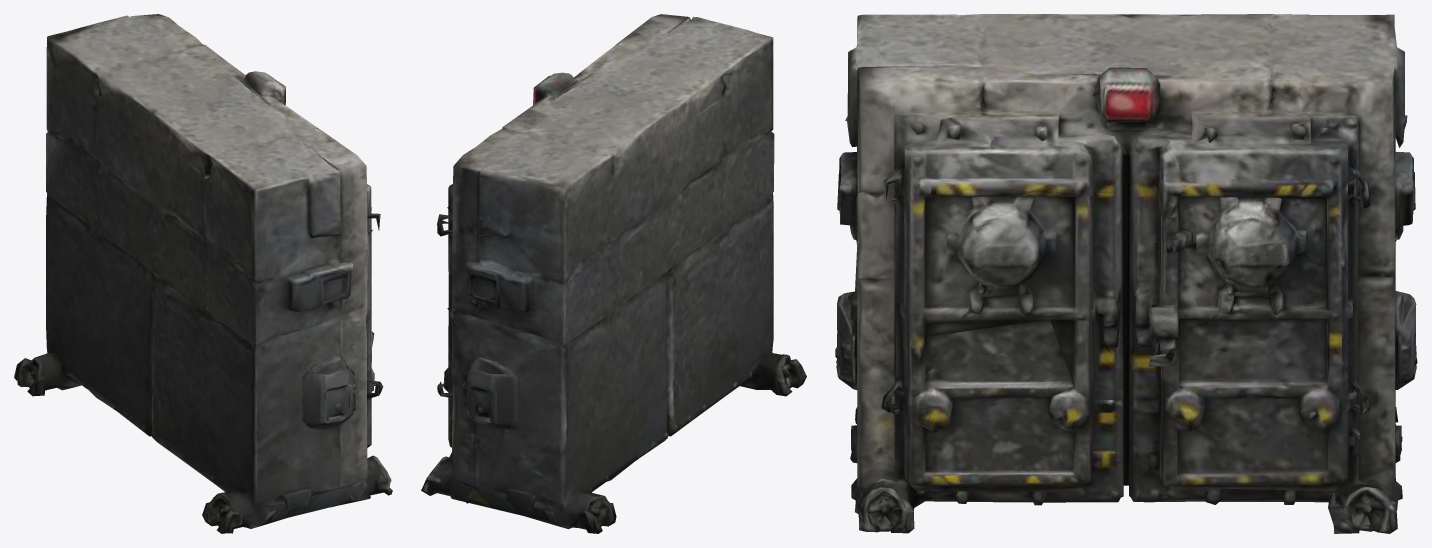
File: xd_blastdoor.glb
3 views of the same model, side by side, from view 1: azimuth 30°, elevation 25°; view 2: azimuth 150°, elevation 25°; view 3: azimuth 270°, elevation 25° (orthographic). The views are drawn at different scales.
Parts seen in each view (by area): view 1: tripo_node_0ac345b9-3ccb-4cc8-82f6-13326d8db237; view 2: tripo_node_0ac345b9-3ccb-4cc8-82f6-13326d8db237; view 3: tripo_node_0ac345b9-3ccb-4cc8-82f6-13326d8db237.
Part boxes in pixels (box(x1,y1,x2,y2)): tripo_node_0ac345b9-3ccb-4cc8-82f6-13326d8db237: box(14, 14, 392, 533); tripo_node_0ac345b9-3ccb-4cc8-82f6-13326d8db237: box(421, 14, 806, 533); tripo_node_0ac345b9-3ccb-4cc8-82f6-13326d8db237: box(835, 14, 1417, 533).
Size of the model in its own units: 0.4756 by 0.8326 by 0.9831.
1 material, 1 textured.
